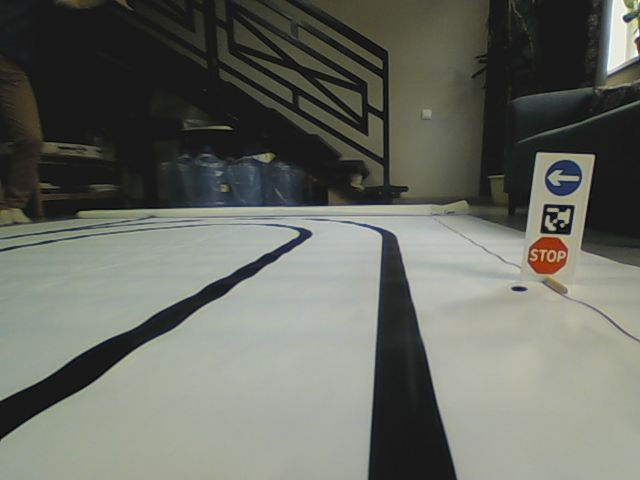Stop: (527, 236, 569, 277)
